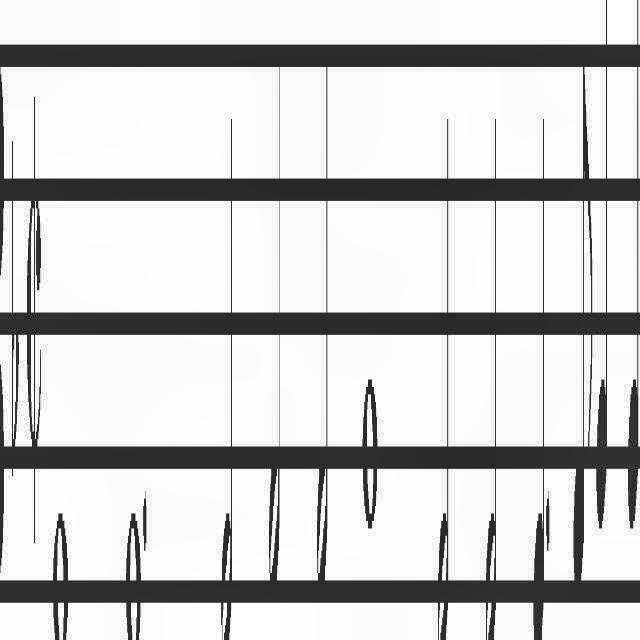Bemol: (10, 126, 20, 494)
Eighth-note: (573, 18, 595, 618)
Full-note: (361, 362, 379, 544), (126, 476, 142, 640), (52, 491, 68, 640)
Half-note: (269, 46, 283, 630), (436, 88, 450, 640), (483, 88, 497, 640), (316, 41, 329, 614), (220, 96, 232, 640)
Quarter-note: (626, 0, 640, 572), (533, 74, 547, 640), (596, 1, 608, 552)
